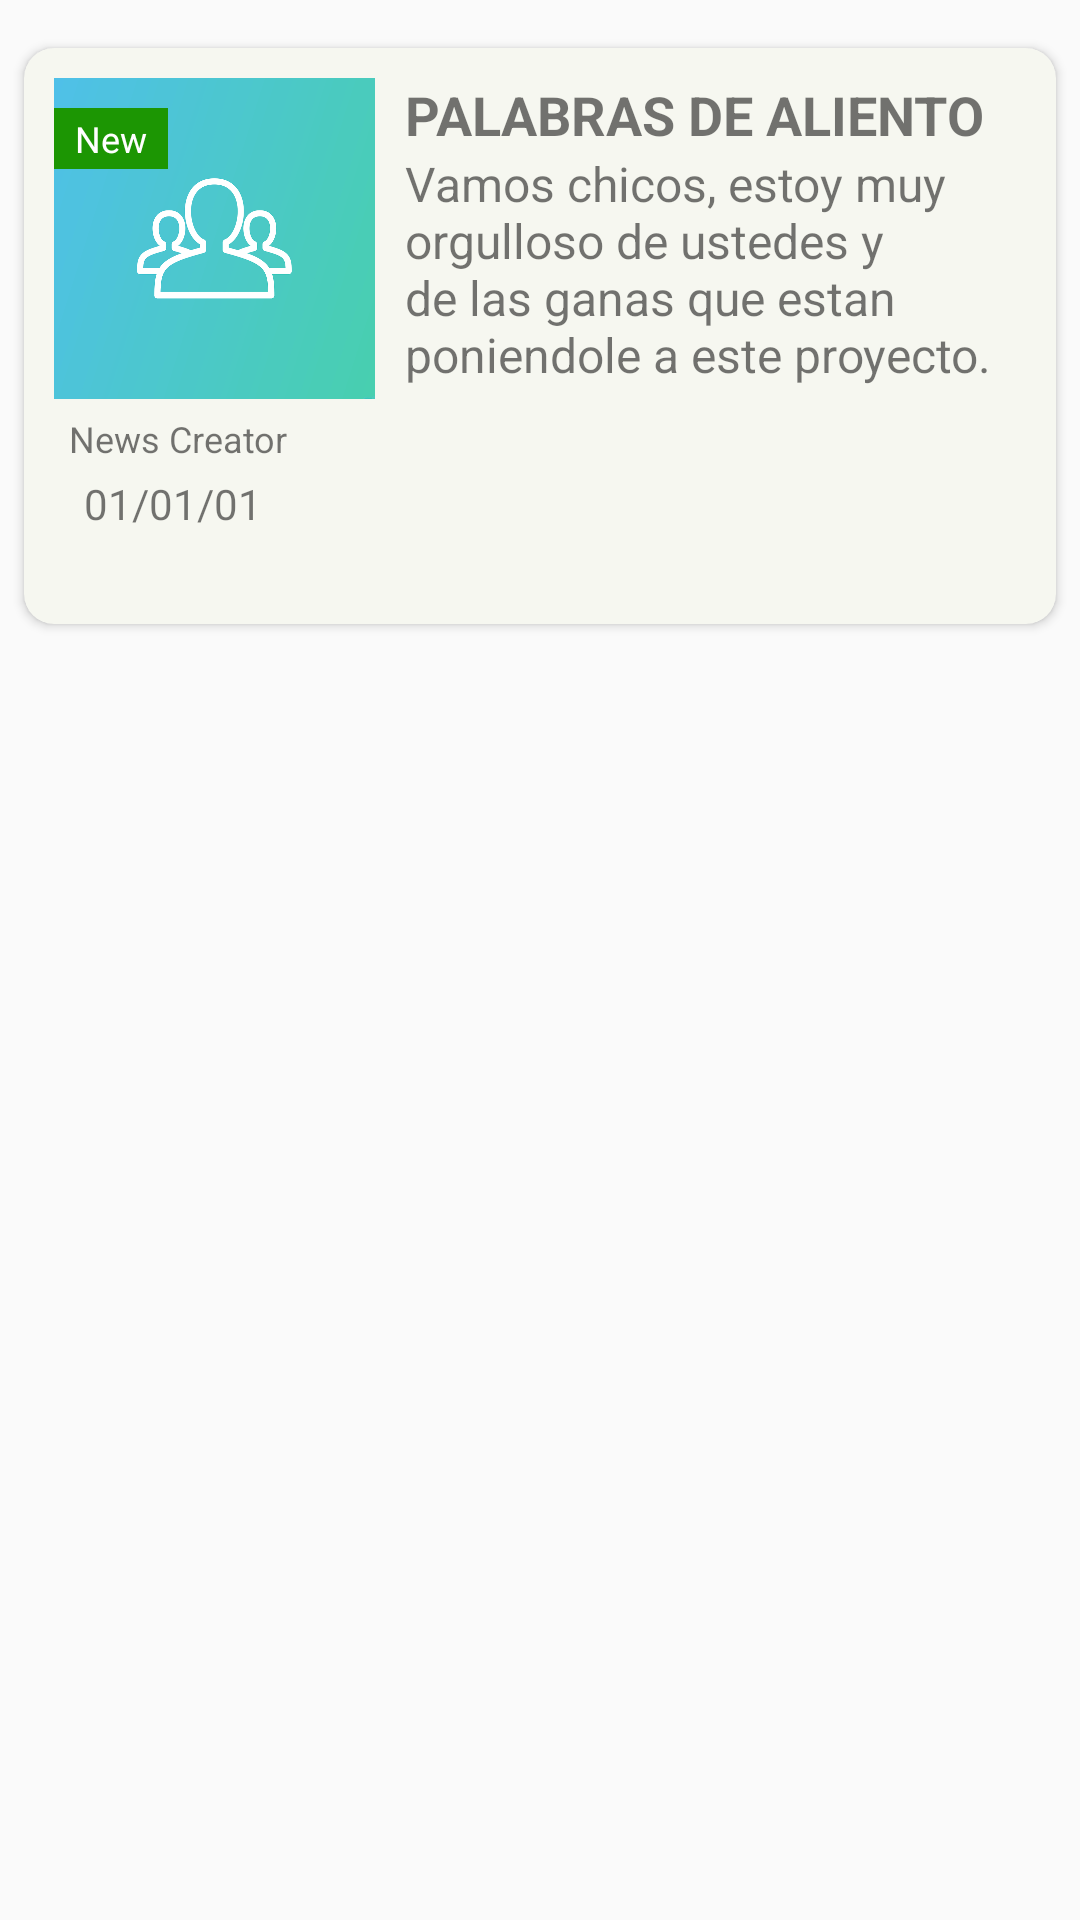

Named icons in this screenshot (1080 × 1920) and their centers, (x,y):
user: (214,238)
